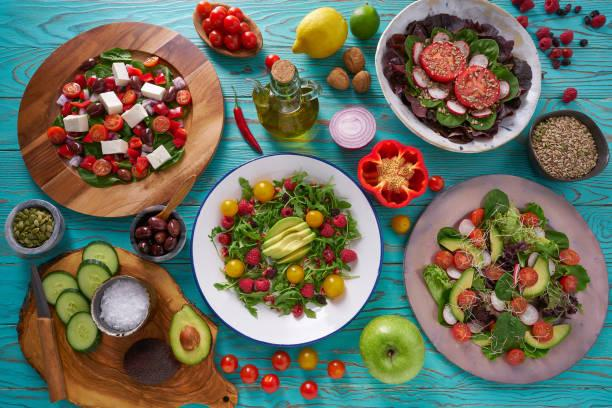Braised Crucian Carp: (401, 174, 605, 386), (18, 21, 223, 218), (191, 153, 382, 346), (375, 1, 537, 154)
